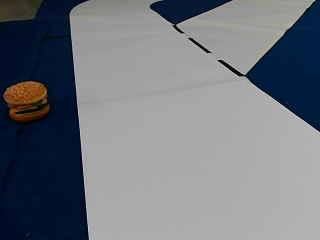burger: (2, 79, 49, 120)
